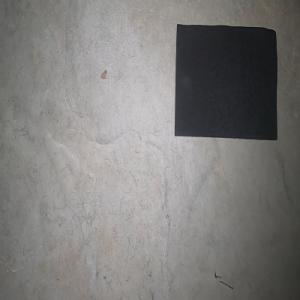PaintChip: (174, 24, 277, 140)
